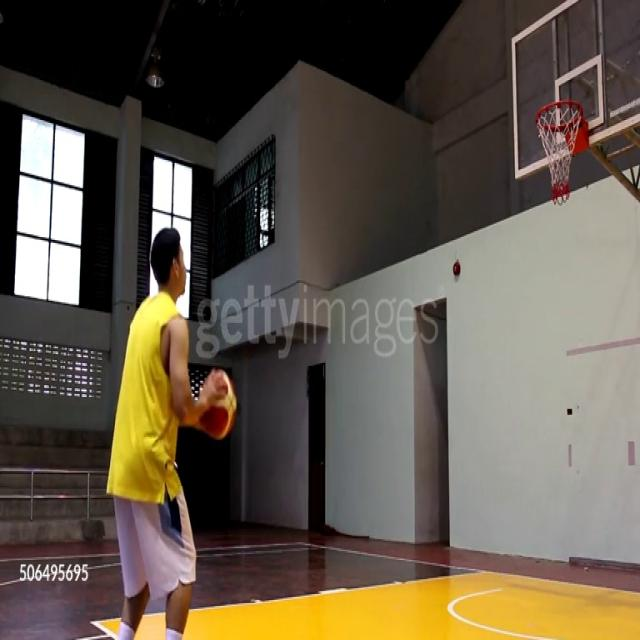ball: (198, 374, 238, 442)
